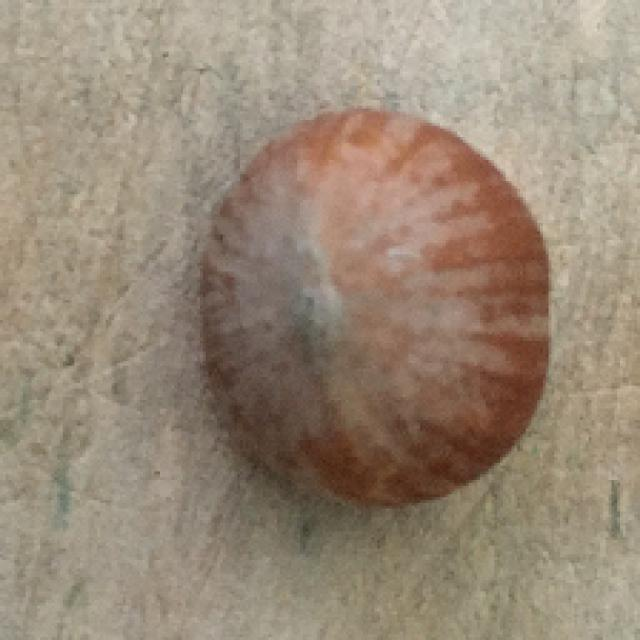qualityHazelnut: (198, 106, 556, 517)
